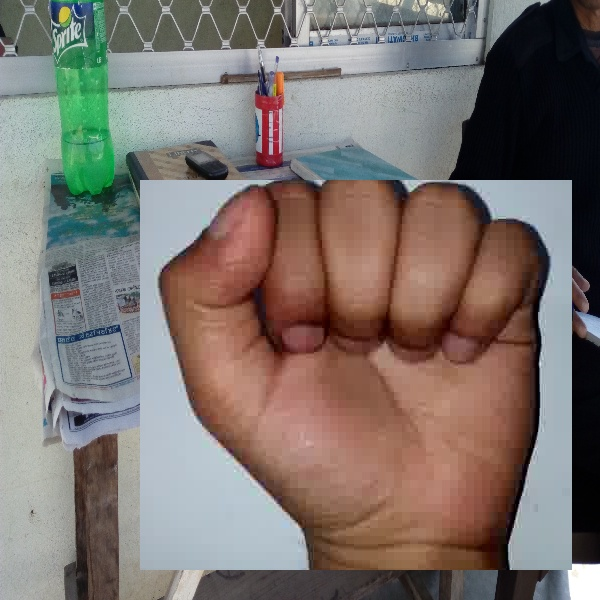A: (140, 180, 572, 570)
